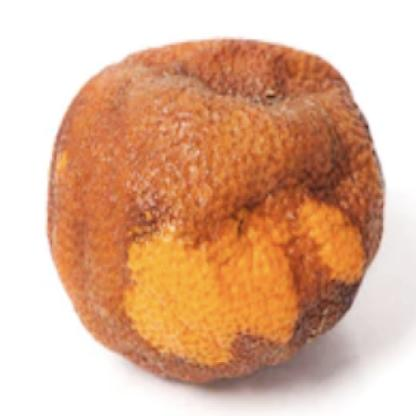rotten: (45, 36, 388, 379)
